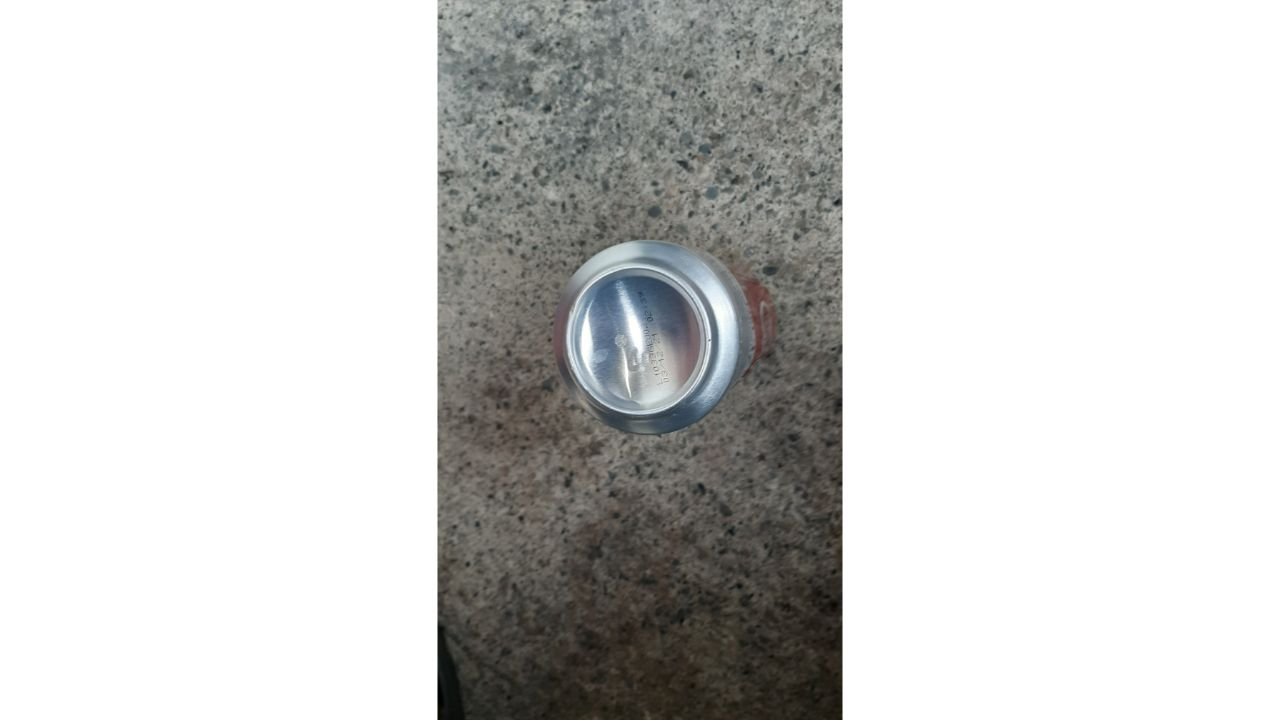Can: (537, 229, 811, 446)
